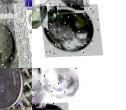ironball: (38, 3, 101, 56), (40, 68, 78, 97), (0, 17, 17, 68), (32, 68, 55, 105), (32, 0, 55, 20), (46, 0, 88, 6), (0, 0, 13, 13)
